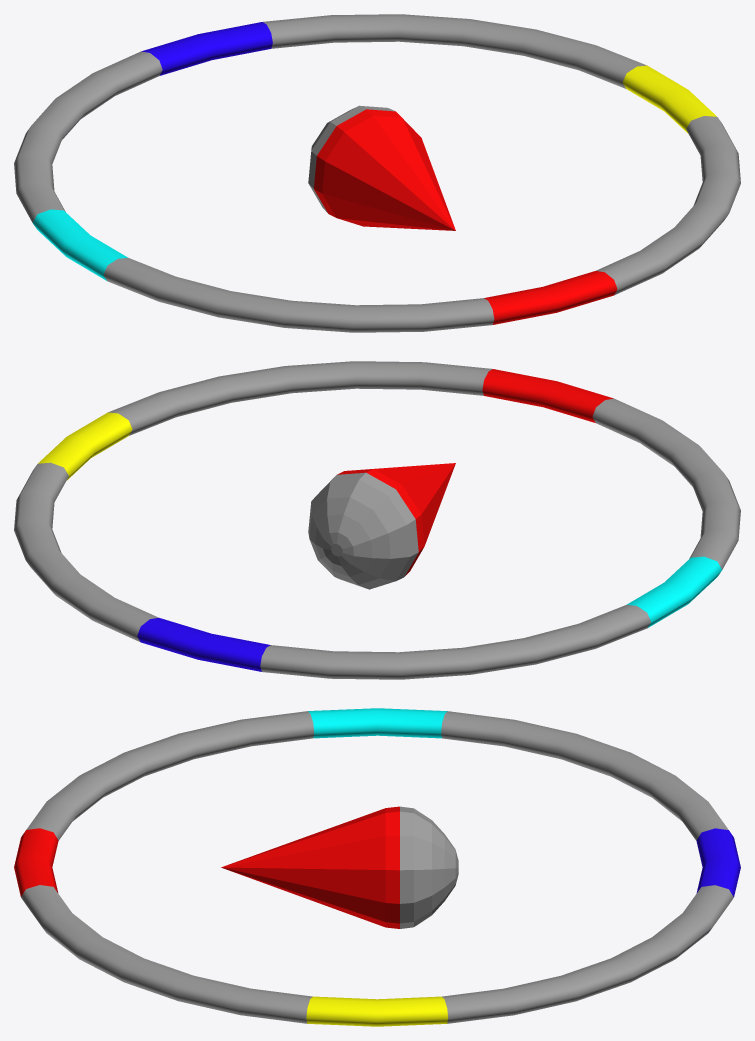
Rendered from compass.fbx.
The picture shows the model from 3 angles, top to bottom: view 1: azimuth 30°, elevation 25°; view 2: azimuth 150°, elevation 25°; view 3: azimuth 270°, elevation 25°; orthographic projection.
Visible parts, largest first — view 1: Cylinder, Cone; view 2: Cylinder, Cone; view 3: Cylinder, Cone.
Part boxes in pixels (bbox=[...]): Cylinder: bbox=[14, 14, 740, 332]; Cone: bbox=[308, 105, 455, 230]; Cylinder: bbox=[14, 361, 740, 679]; Cone: bbox=[308, 463, 455, 589]; Cylinder: bbox=[14, 708, 740, 1026]; Cone: bbox=[221, 806, 458, 928].
Bounding box in the file's own units: 193 × 32.43 × 193.
